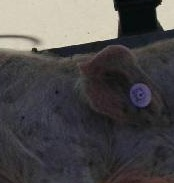text: (121, 75, 159, 115)
